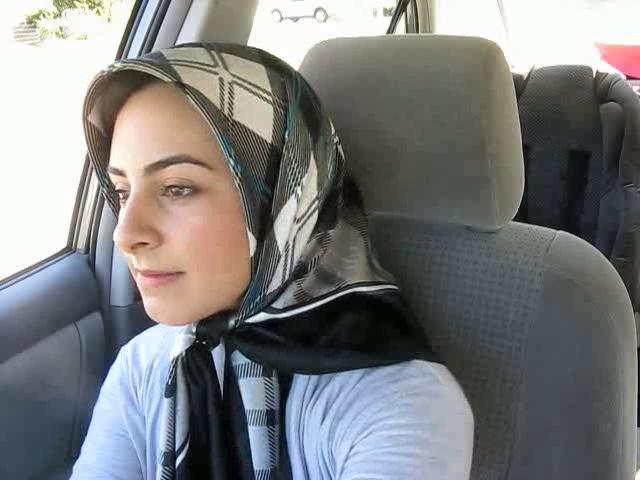no_yawn: (120, 255, 193, 296)
open_eyeL: (106, 174, 134, 207)
open_eyeR: (151, 172, 210, 209)
